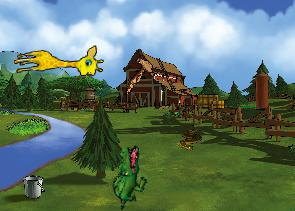crocodile: (103, 143, 153, 210)
eagle: (123, 48, 159, 95)
giraffe: (12, 44, 104, 84)
